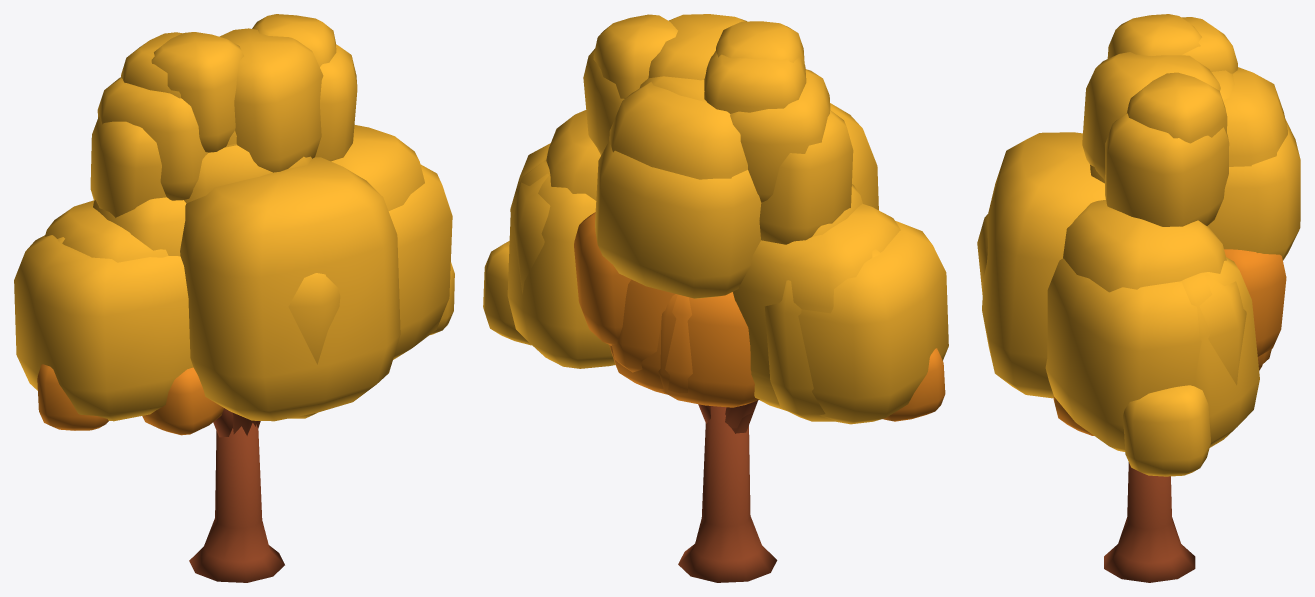
File: trees.glb
The picture shows the model from 3 angles, left to right: view 1: azimuth 30°, elevation 25°; view 2: azimuth 150°, elevation 25°; view 3: azimuth 270°, elevation 25°; orthographic projection. The views are drawn at different scales.
Visible parts, largest first — view 1: TREEV_3, TREEV_2, TREEV_0, TREEV_1; view 2: TREEV_2, TREEV_0, TREEV_3, TREEV_1; view 3: TREEV_2, TREEV_3, TREEV_0, TREEV_1.
Part boxes in pixels (x1=…): TREEV_3: x1=57, y1=14, x2=400, y2=435; TREEV_2: x1=14, y1=44, x2=454, y2=437; TREEV_0: x1=45, y1=28, x2=424, y2=582; TREEV_1: x1=93, y1=32, x2=262, y2=528; TREEV_2: x1=483, y1=48, x2=948, y2=433; TREEV_0: x1=546, y1=14, x2=900, y2=582; TREEV_3: x1=507, y1=14, x2=880, y2=428; TREEV_1: x1=611, y1=21, x2=862, y2=526; TREEV_2: x1=977, y1=113, x2=1300, y2=476; TREEV_3: x1=982, y1=17, x2=1287, y2=447; TREEV_0: x1=1063, y1=52, x2=1286, y2=582; TREEV_1: x1=1107, y1=14, x2=1271, y2=529.
Size of the model in its own units: 5.49 by 6.6 by 3.71.
